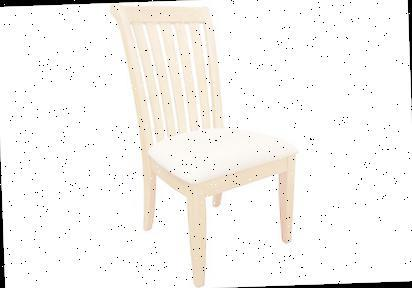Silla: (111, 1, 296, 285)
